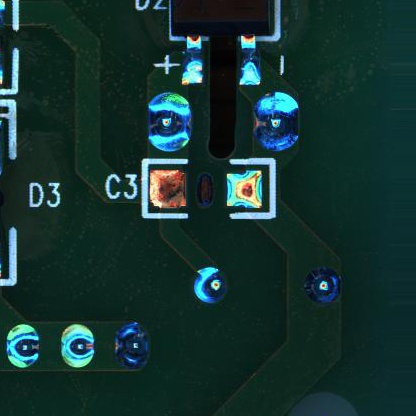spot: (147, 92, 192, 153), (255, 91, 299, 151), (60, 320, 95, 372), (115, 321, 149, 371), (6, 323, 39, 369), (303, 267, 340, 308), (195, 268, 229, 304)
